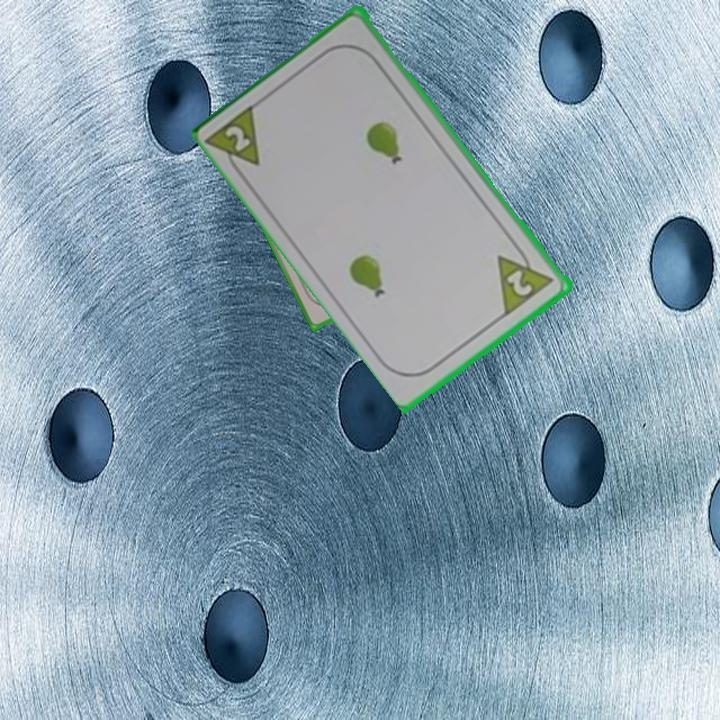2p: (493, 239, 558, 318), (205, 99, 264, 183)
